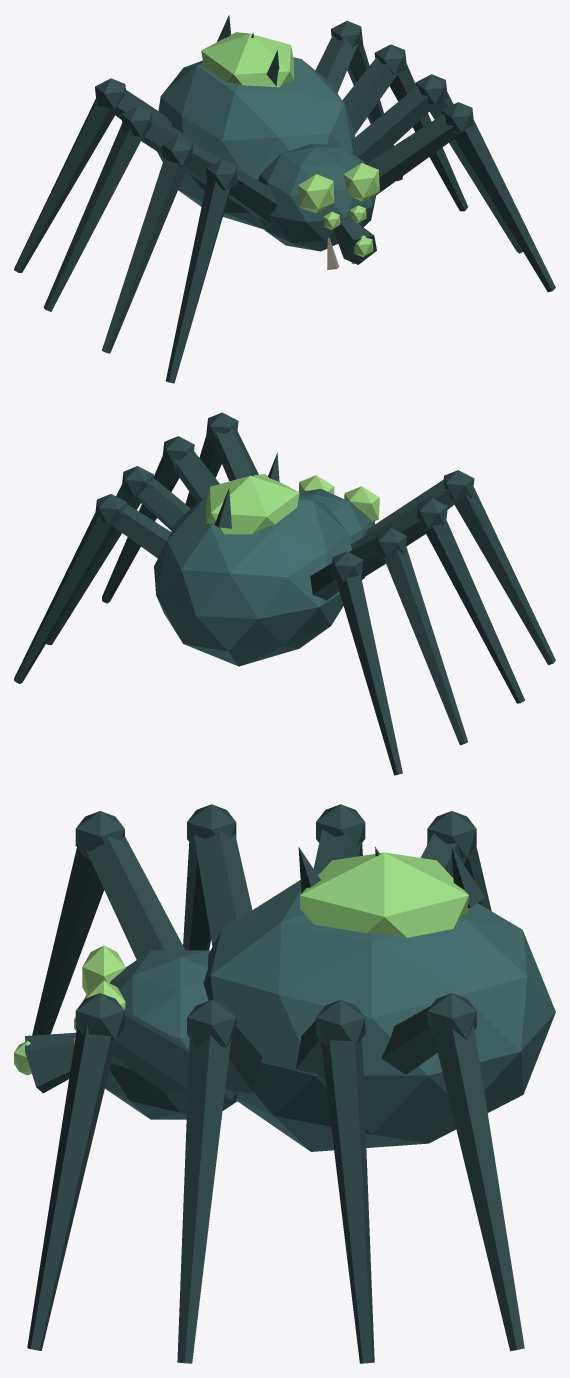
The model's file is enemy_spitter.glb.
3 views of the same model, one above another, from view 1: azimuth 30°, elevation 25°; view 2: azimuth 150°, elevation 25°; view 3: azimuth 270°, elevation 25° (orthographic). The views are drawn at different scales.
Visible parts, largest first — view 1: enemy_spitter; view 2: enemy_spitter; view 3: enemy_spitter.
Part boxes in pixels (x1,y1,x2,y2): enemy_spitter: [14, 15, 555, 383]; enemy_spitter: [14, 412, 555, 775]; enemy_spitter: [14, 804, 555, 1363].
Bounding box in the file's own units: 2.31 × 1.18 × 1.62.
